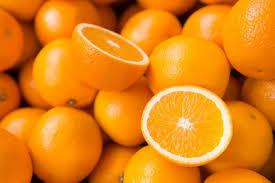orange: (18, 105, 106, 183), (145, 81, 233, 158), (60, 21, 148, 91), (149, 35, 225, 101), (211, 0, 275, 77), (86, 77, 142, 140), (34, 46, 86, 107), (31, 2, 96, 44), (226, 104, 275, 159)
